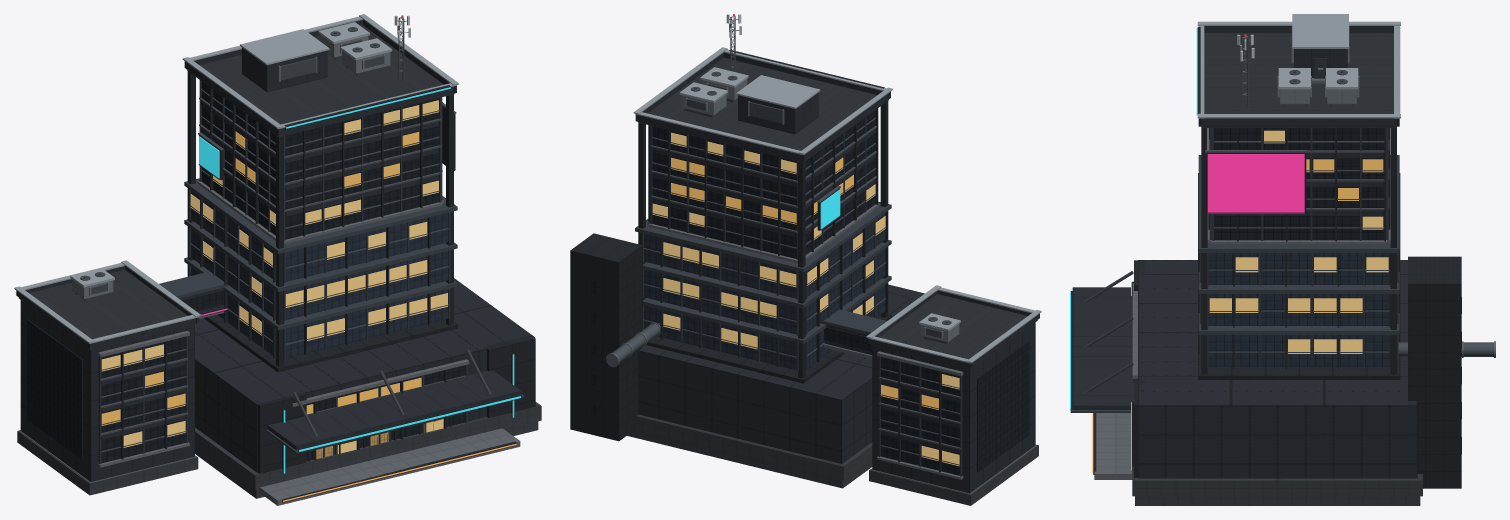
The model's file is trg-8-built.glb.
3 renders of one model, left to right at view 1: azimuth 30°, elevation 25°; view 2: azimuth 150°, elevation 25°; view 3: azimuth 270°, elevation 25°, orthographic. The views are drawn at different scales.
Size of the model in its own units: 46.97 by 43.78 by 39.58.
57 materials, 42 textured.
